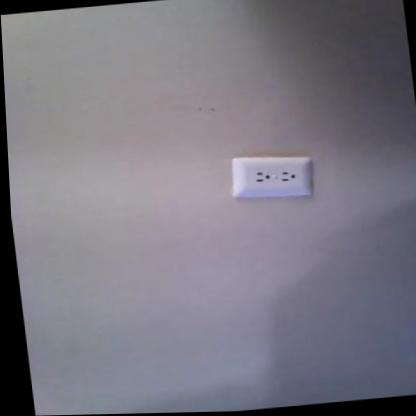OUTLET: (230, 149, 314, 203)
